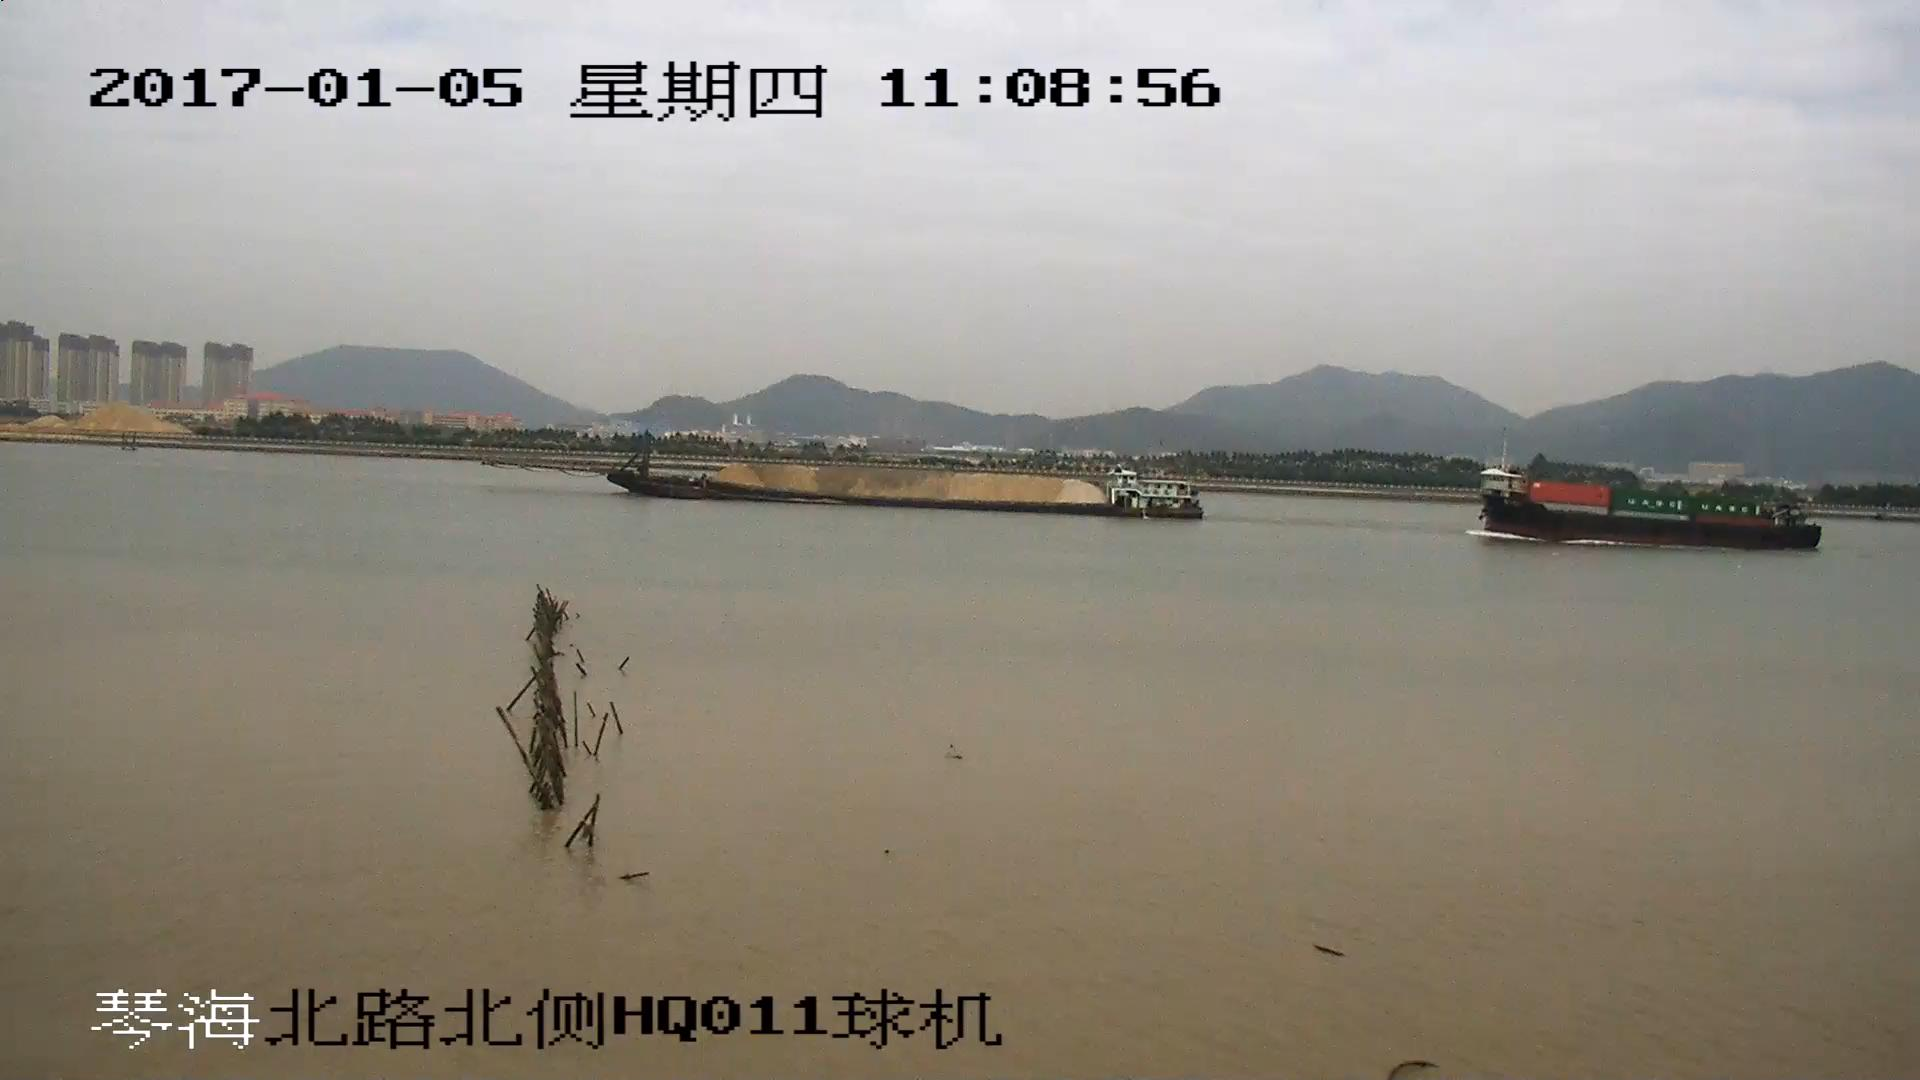container ship: (1472, 468, 1819, 548)
ore carrier: (499, 436, 1204, 523)
